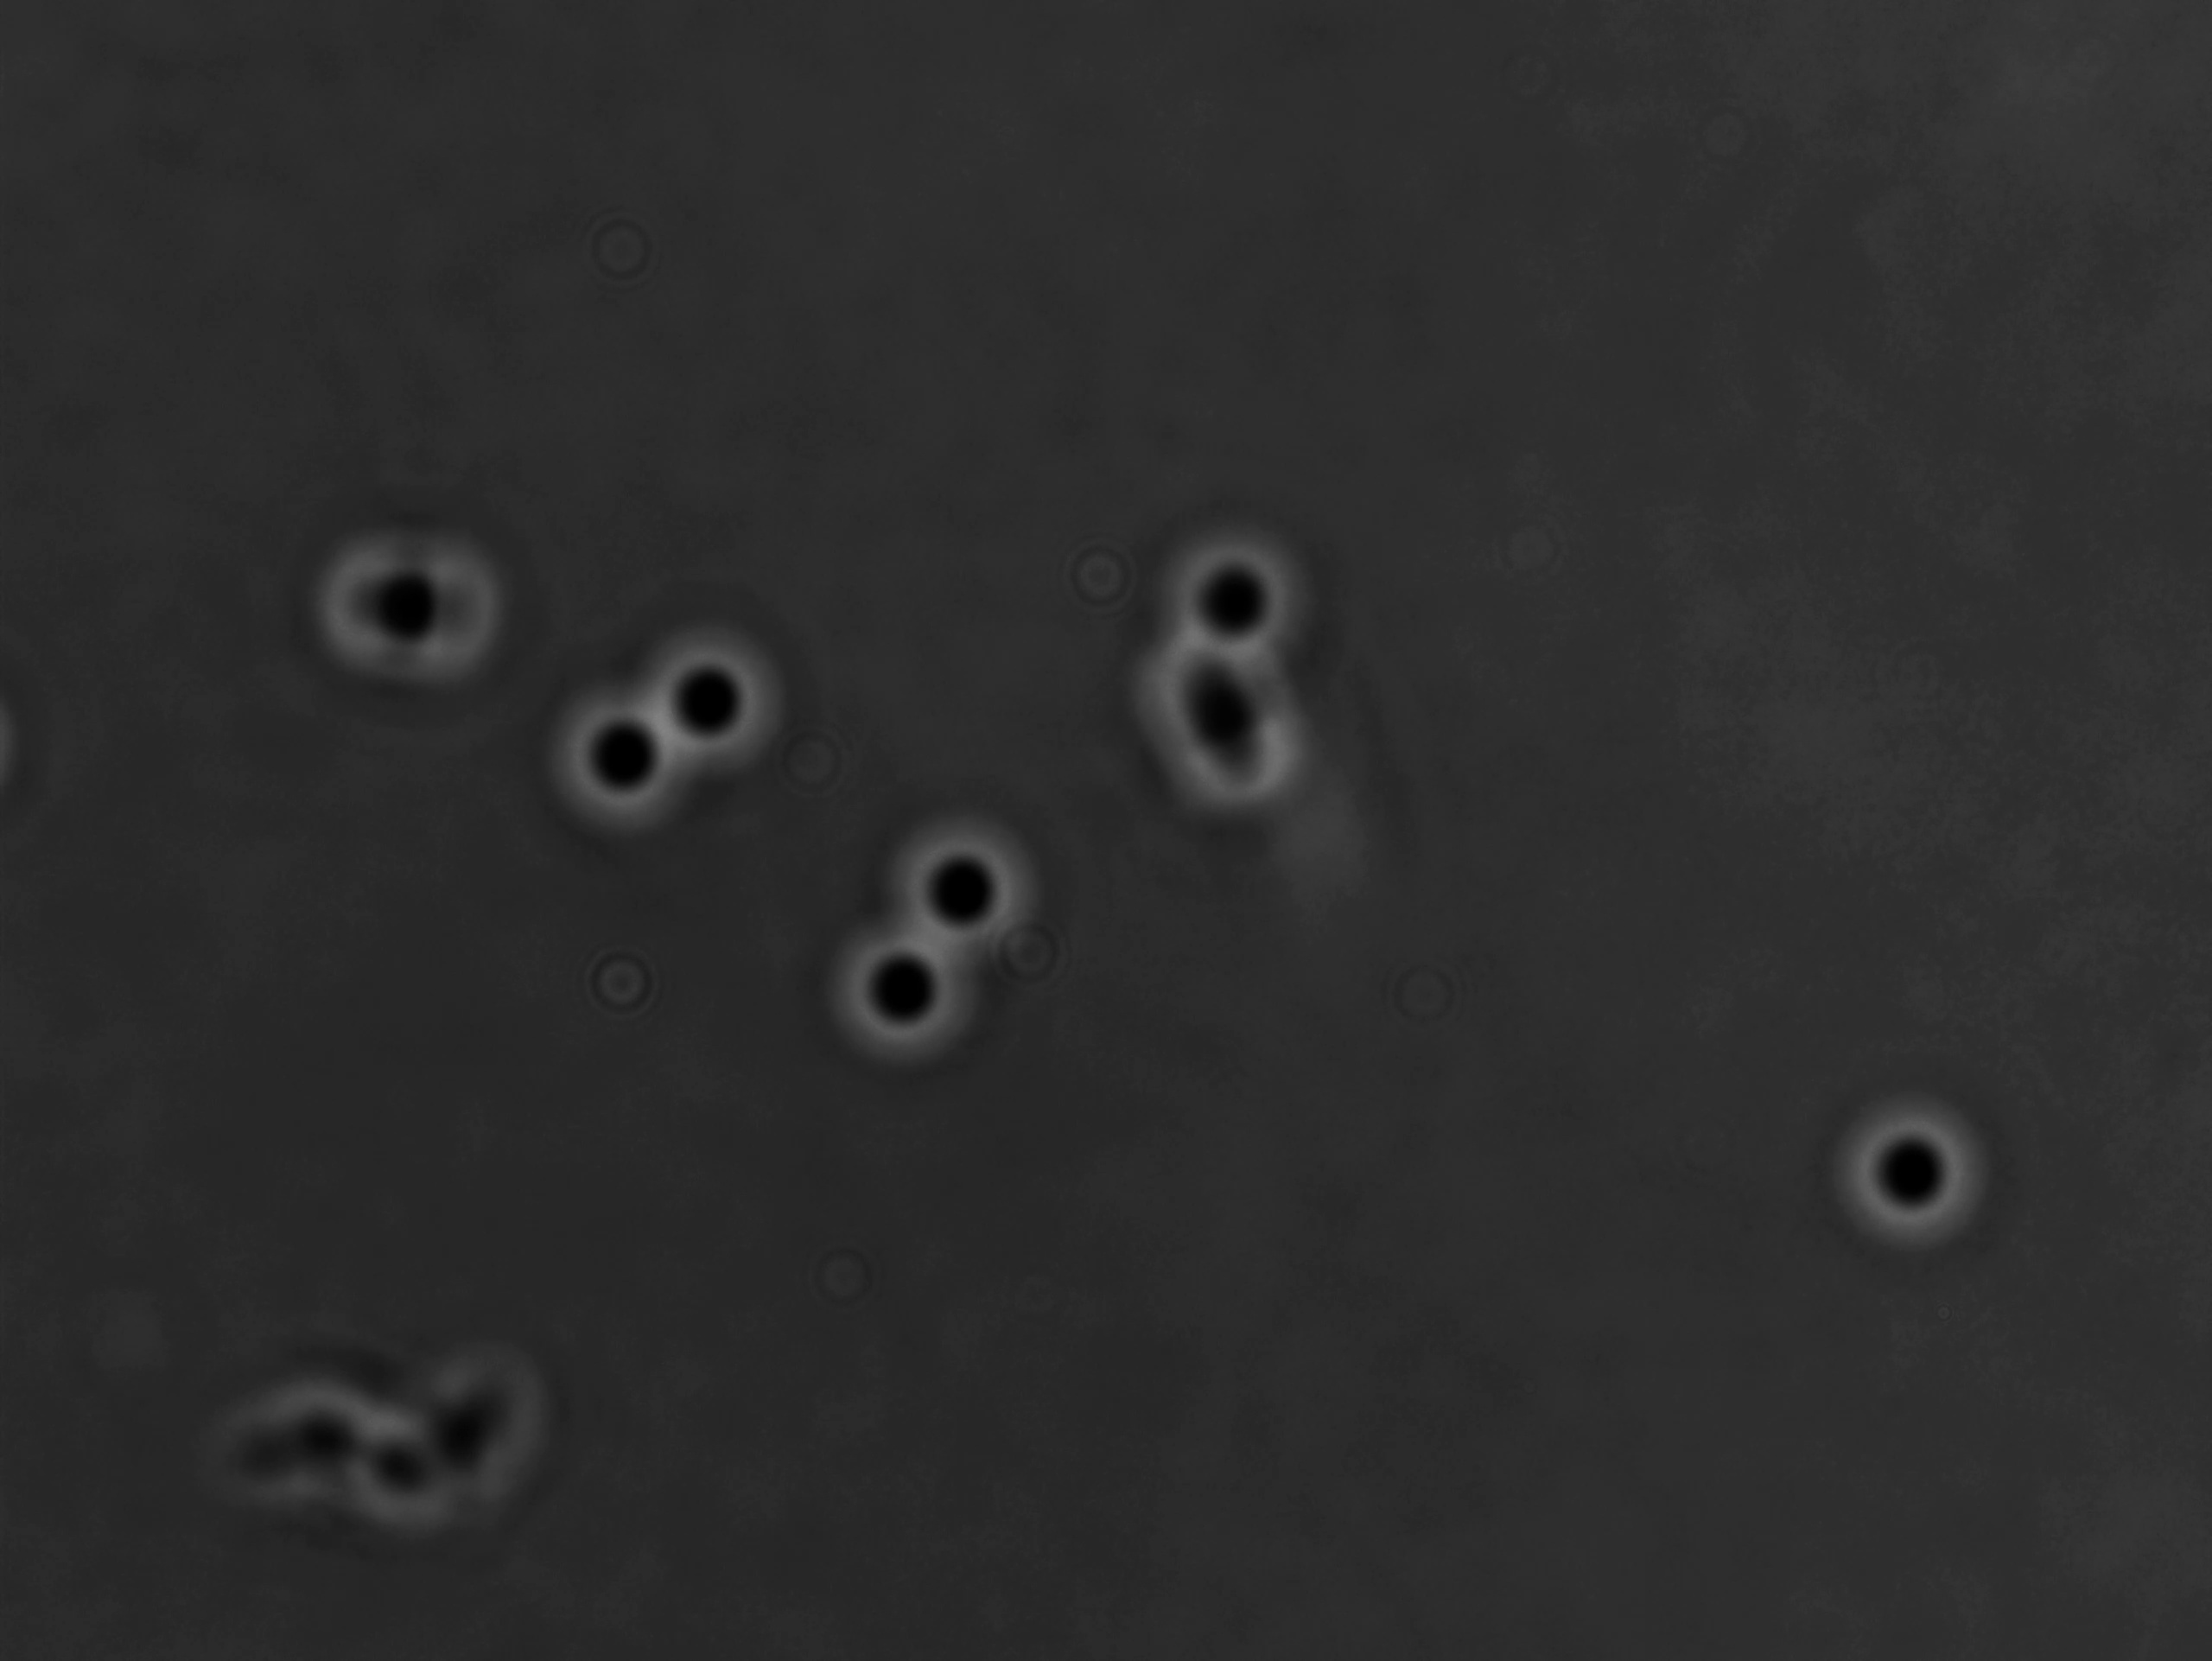depth:-80: (813, 914, 994, 1085), (1816, 1087, 1990, 1261), (1153, 520, 1329, 673), (886, 817, 1048, 974), (633, 623, 789, 783), (546, 689, 710, 839)
